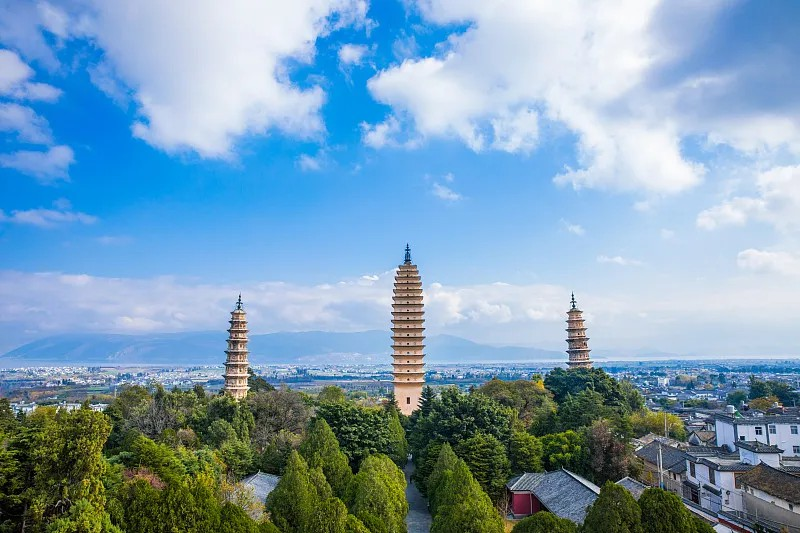ThreePagoda: (391, 243, 426, 417)
